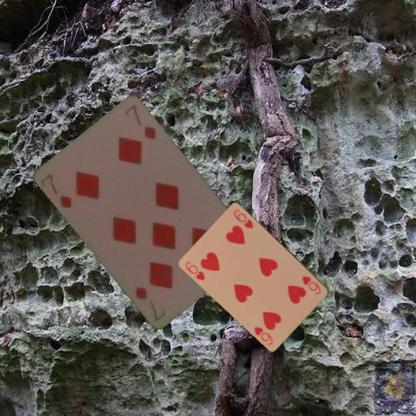6h: (183, 258, 207, 282), (300, 273, 322, 296)
7d: (39, 171, 73, 210)
